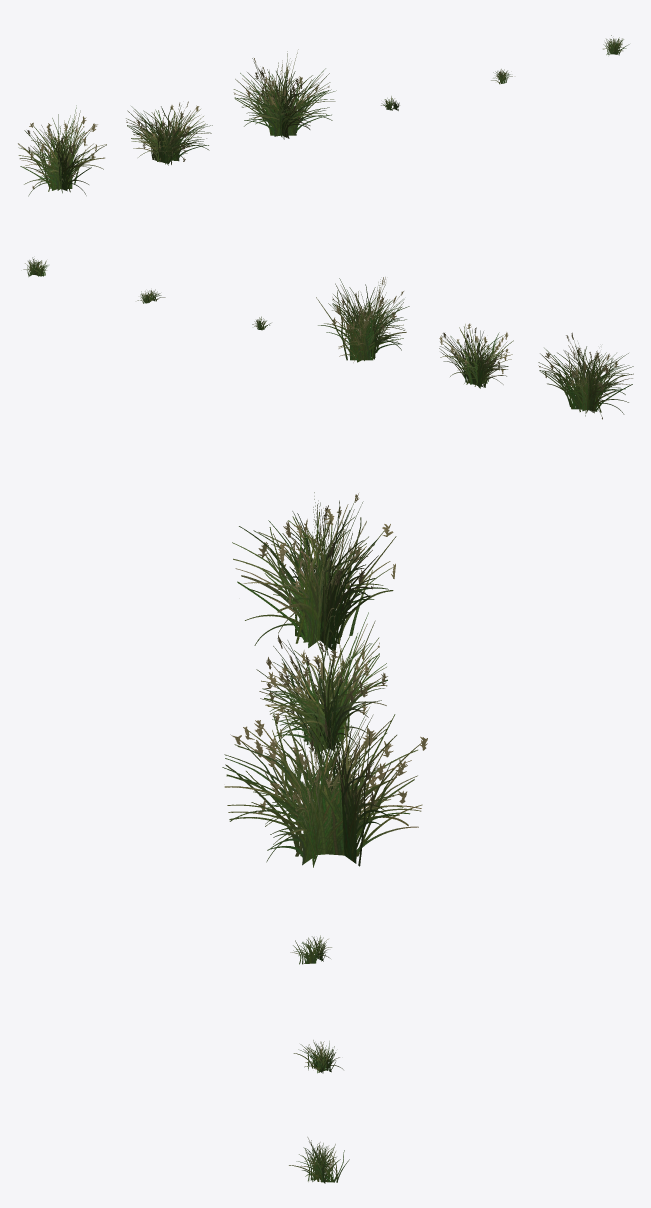
The model's file is trava_sada.glb.
The picture shows the model from 3 angles, top to bottom: view 1: azimuth 30°, elevation 25°; view 2: azimuth 150°, elevation 25°; view 3: azimuth 270°, elevation 25°; orthographic projection. The views are drawn at different scales.
Visible parts, largest first — view 1: trava_vysoka_3, trava_vysoka_1, trava_vysoka_2; view 2: trava_vysoka_3, trava_vysoka_1, trava_vysoka_2, trava_nizka_3; view 3: trava_vysoka_3, trava_vysoka_1, trava_vysoka_2, trava_nizka_3.
Part boxes in pixels (left/top/right/bottom): trava_vysoka_3: left=233, top=49, right=336, bottom=139; trava_vysoka_1: left=18, top=105, right=106, bottom=196; trava_vysoka_2: left=126, top=101, right=212, bottom=165; trava_vysoka_3: left=316, top=277, right=409, bottom=362; trava_vysoka_1: left=538, top=332, right=633, bottom=419; trava_vysoka_2: left=439, top=323, right=513, bottom=388; trava_nizka_3: left=23, top=257, right=48, bottom=276; trava_vysoka_3: left=222, top=707, right=427, bottom=867; trava_vysoka_1: left=232, top=492, right=396, bottom=655; trava_vysoka_2: left=256, top=612, right=387, bottom=754; trava_nizka_3: left=289, top=1137, right=349, bottom=1183.
Bounding box in the file's own units: 8.39 × 0.9826 × 1.33.
1 material, 1 textured.
